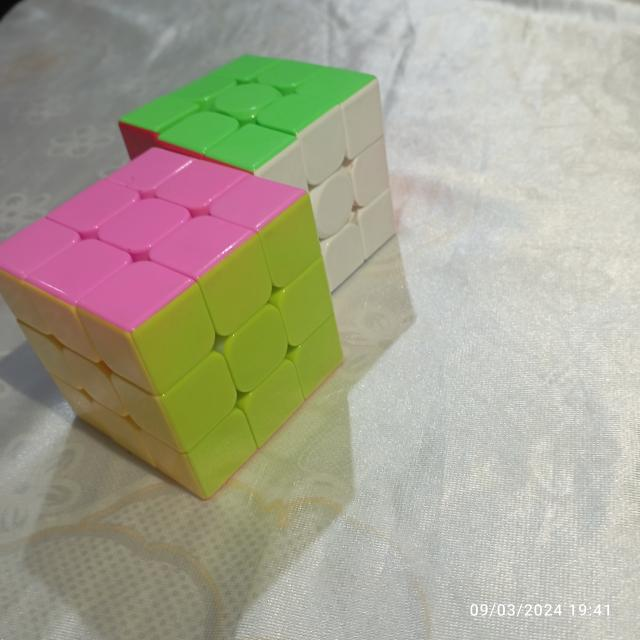Rub: (0, 144, 346, 500), (115, 52, 404, 290)
